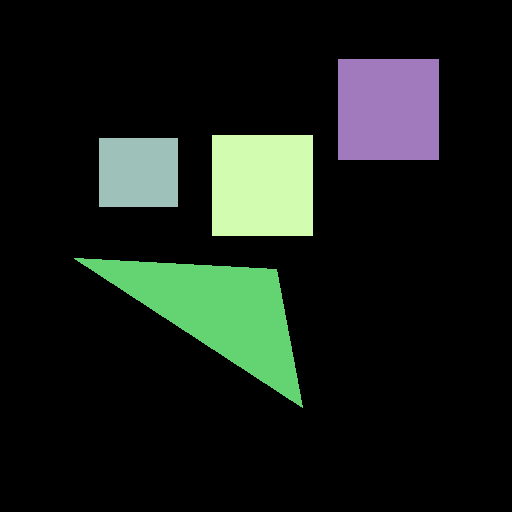rectangle: (99, 138, 177, 206)
square: (212, 135, 312, 235), (338, 59, 438, 159)
triangle: (74, 258, 302, 407)
